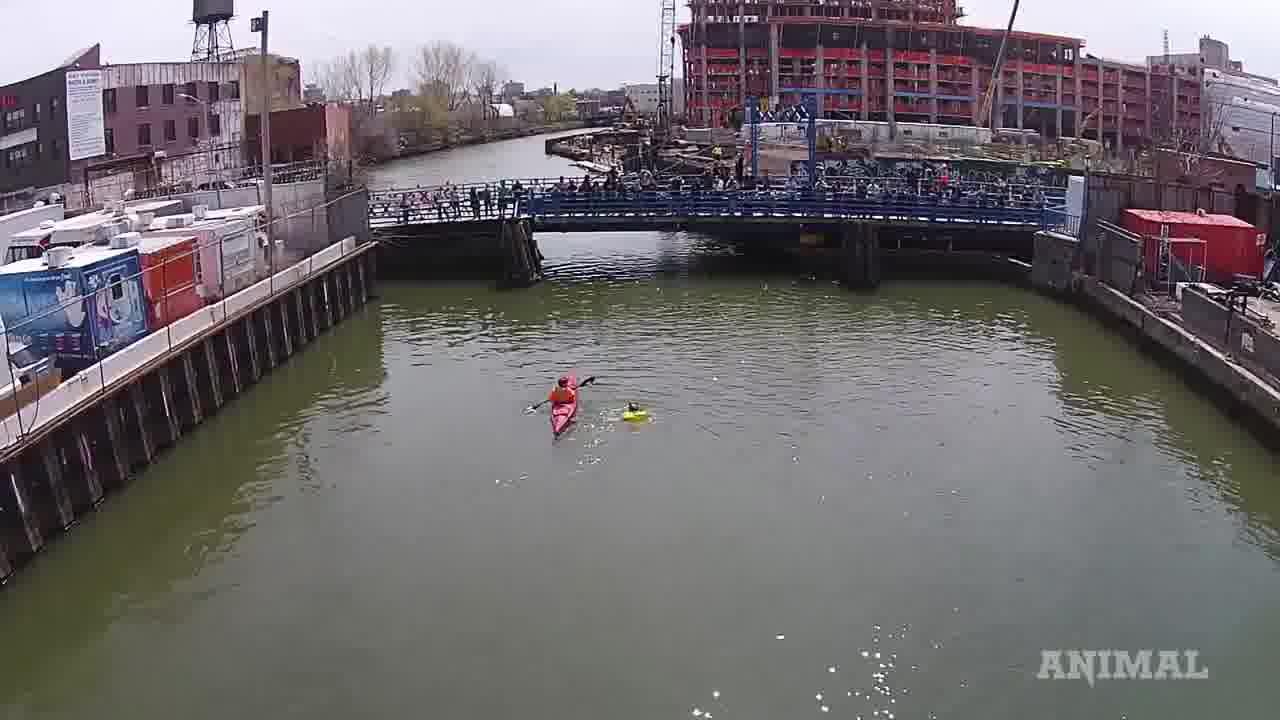swimmer: (617, 390, 648, 431)
